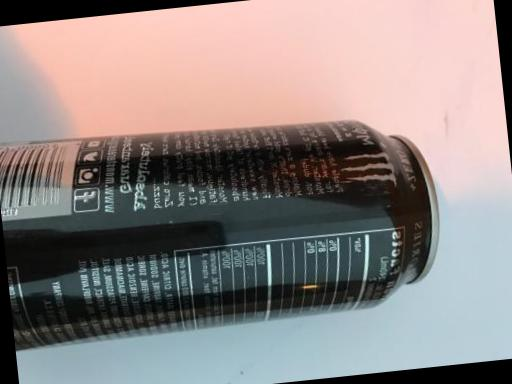metal: (0, 87, 465, 384)
